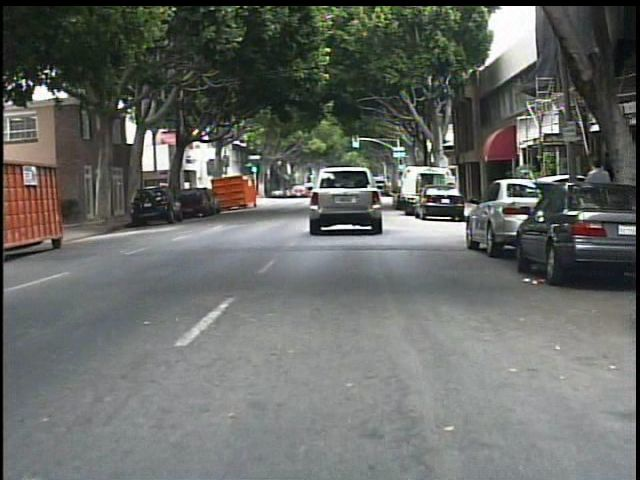person: (581, 155, 615, 241)
